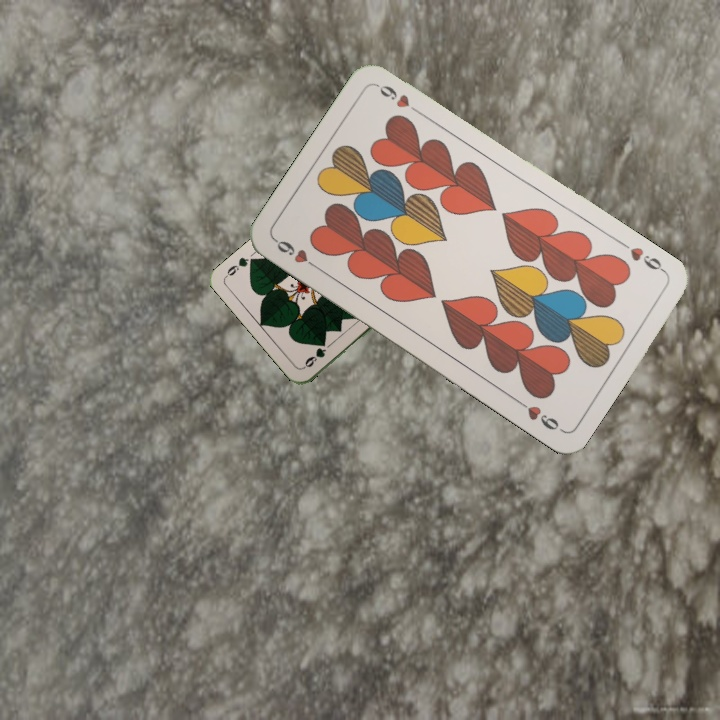G9: (299, 344, 329, 371)
H9: (271, 234, 323, 273), (626, 243, 669, 276)
